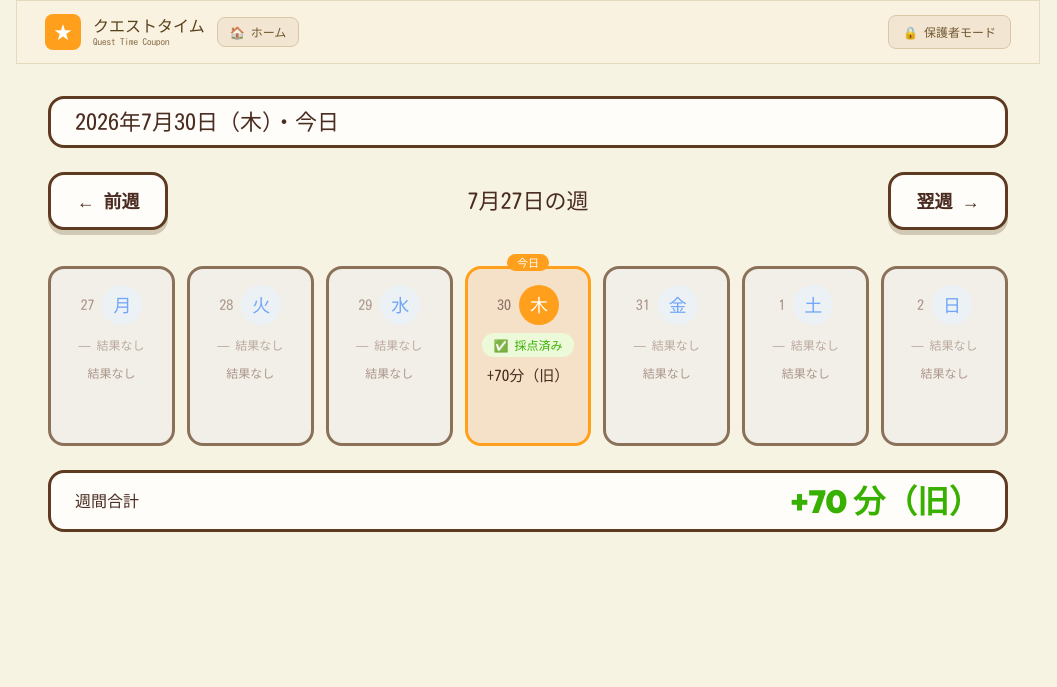
Test: ResultsPage reasonCode › normal はごほうび獲得と3行の内訳を表示する
Click the button with test id "results-day-2026-07-30" at (528, 356), box 465,266 -> 592,446
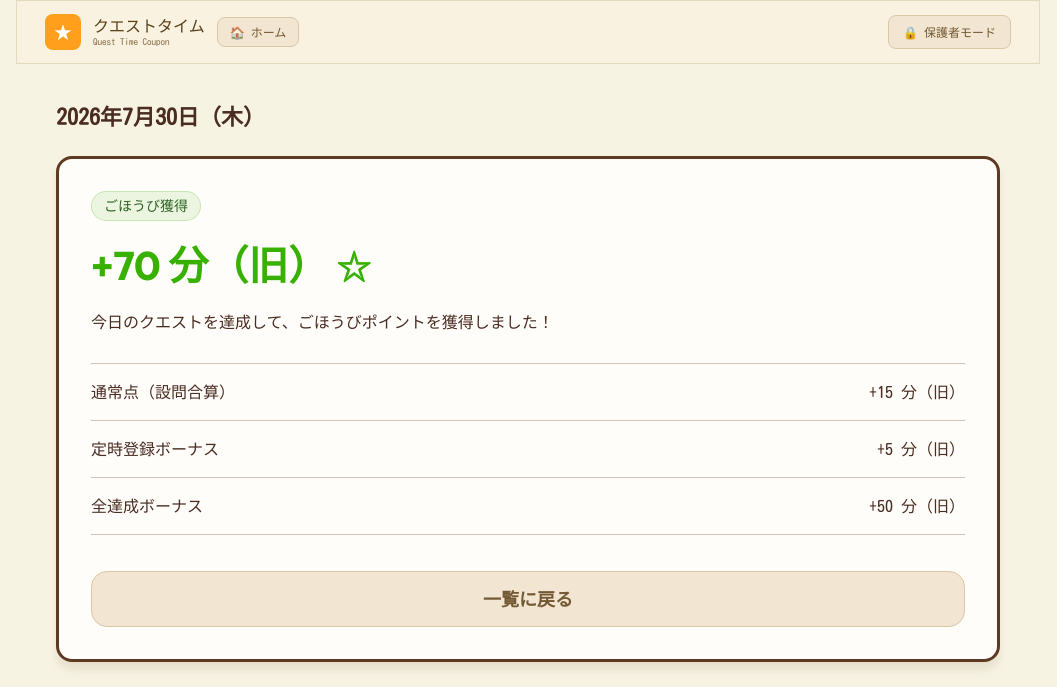
expect the text with test id "results-detail-badge" reads "ごほうび獲得": met, box 104,198 -> 188,212
expect the text with test id "reason-code-message" shows "ごほうびポイントを獲得しました": met, box 91,314 -> 554,330
expect the text "通常点（設問合算）" is shown: met, box 91,380 -> 235,404
